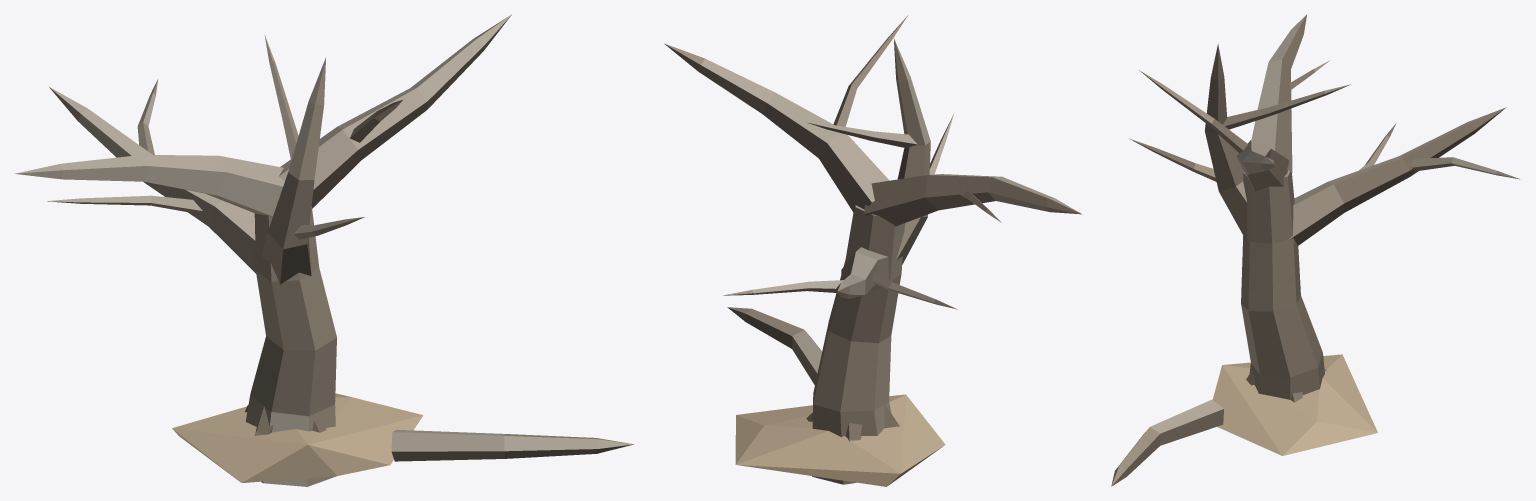
The model's file is tree_desert_0.glb.
3 views of the same model, side by side, from view 1: azimuth 30°, elevation 25°; view 2: azimuth 150°, elevation 25°; view 3: azimuth 270°, elevation 25° (orthographic). The views are drawn at different scales.
Parts seen in each view (by area): view 1: Body; view 2: Body; view 3: Body.
Part boxes in pixels (x1,y1,x2,y2): Body: [14, 14, 633, 486]; Body: [664, 15, 1081, 486]; Body: [1111, 14, 1519, 486].
Size of the model in its own units: 4.79 by 4.03 by 3.96.
